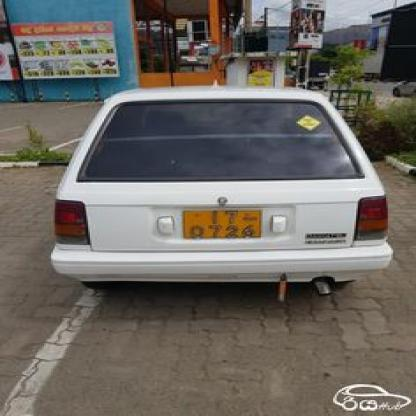car back: (40, 83, 400, 301)
number plate: (182, 205, 263, 242)
